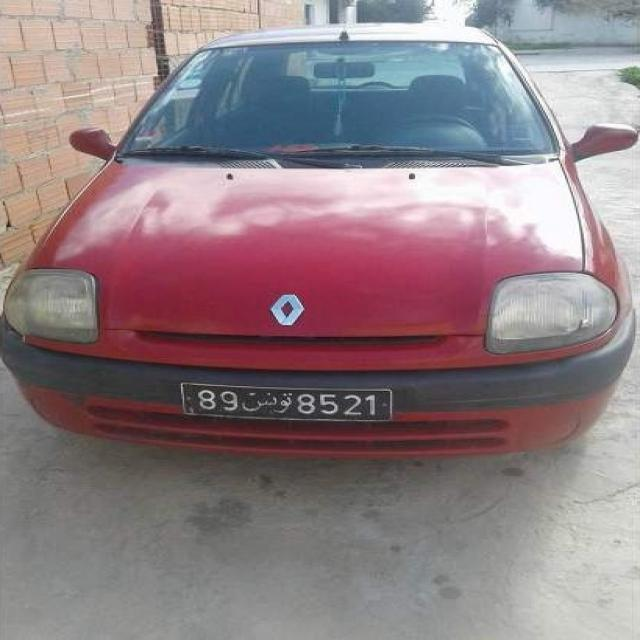licence plate: (184, 385, 390, 420)
